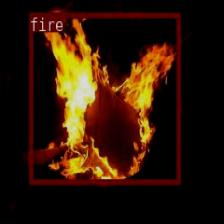fire: (29, 12, 180, 184)
